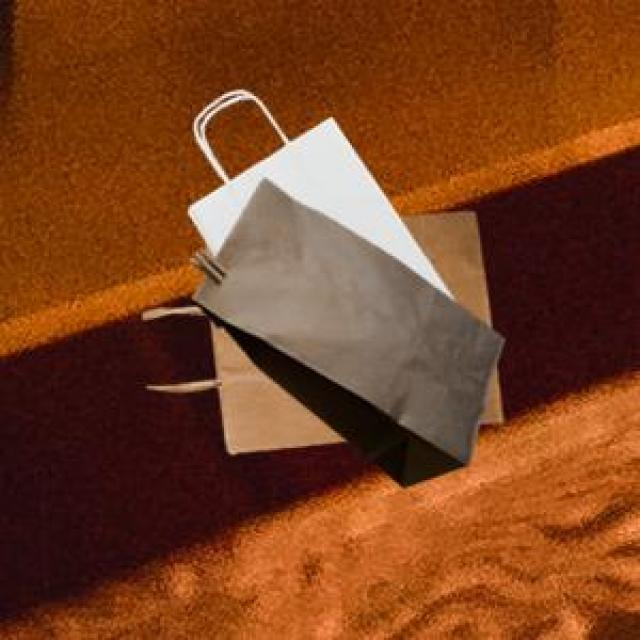Paper -Biodegradable-: (195, 118, 512, 487)
